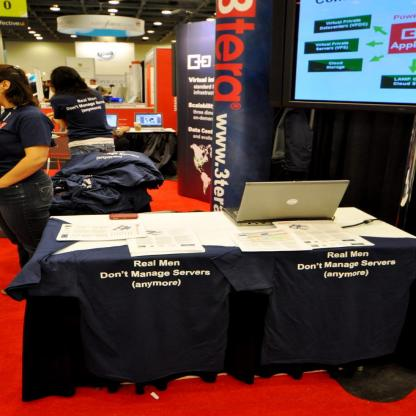board: (221, 178, 350, 226), (134, 114, 164, 130), (104, 114, 118, 130), (108, 97, 124, 103)
